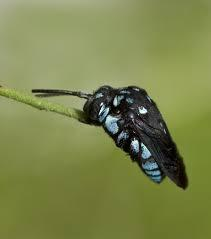Thyreus: (34, 72, 194, 193)
